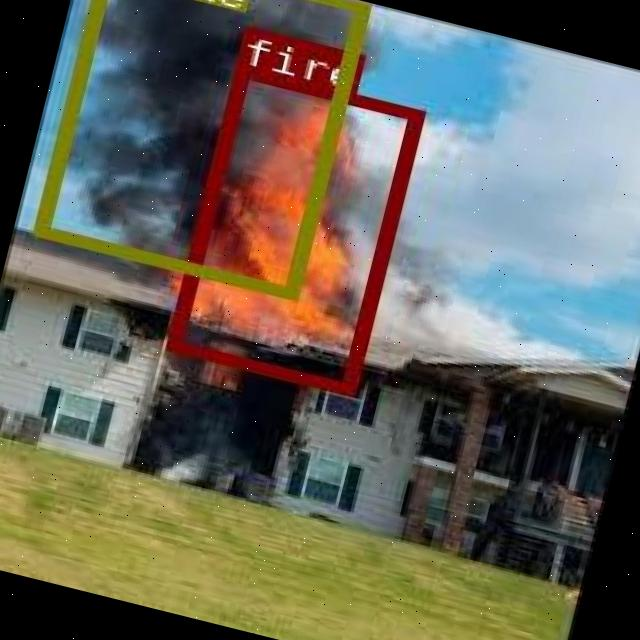fire: (164, 61, 422, 392)
smoke: (31, 0, 367, 296)
